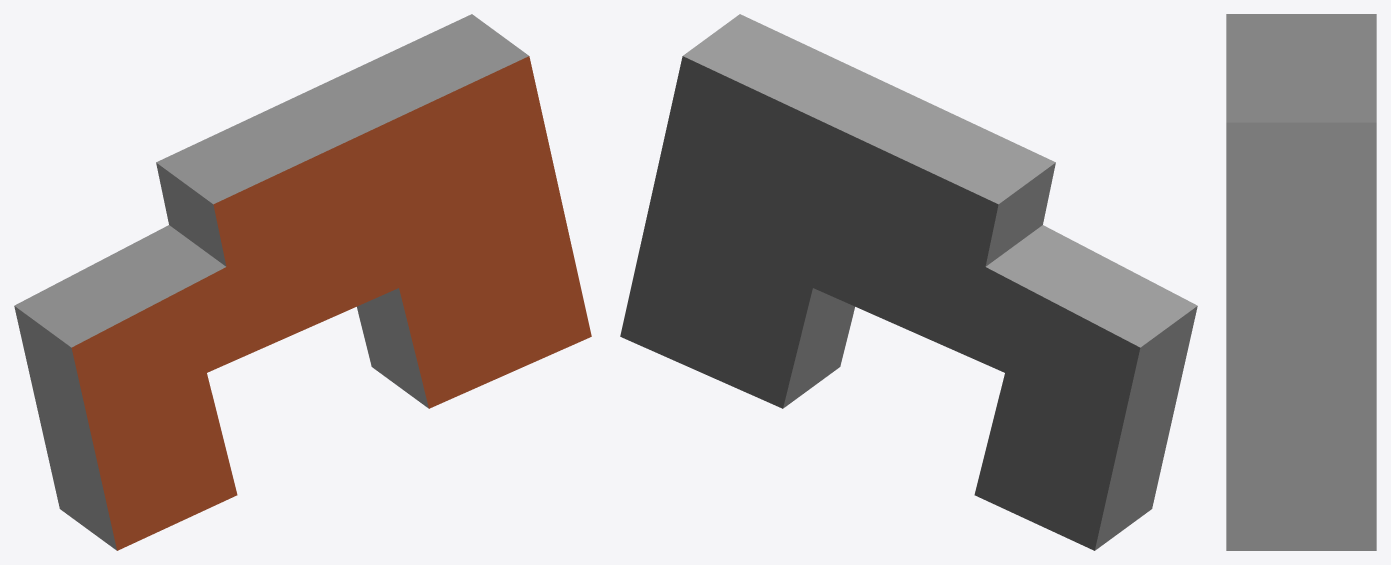
Rendered from construction_1902_assumed_A_Casa_h6m.obj.
3 renders of one model, left to right at view 1: azimuth 30°, elevation 25°; view 2: azimuth 150°, elevation 25°; view 3: azimuth 270°, elevation 25°, orthographic. The views are drawn at different scales.
Parts seen in each view (by area): view 1: construction_1902_assumed_A_Casa; view 2: construction_1902_assumed_A_Casa; view 3: construction_1902_assumed_A_Casa.
Boxes of the visible parts, <box> form: construction_1902_assumed_A_Casa: <box>14,14,591,550</box>; construction_1902_assumed_A_Casa: <box>620,14,1197,550</box>; construction_1902_assumed_A_Casa: <box>1226,14,1376,550</box>.
Bounding box in the file's own units: 31.41 × 22.75 × 6.
